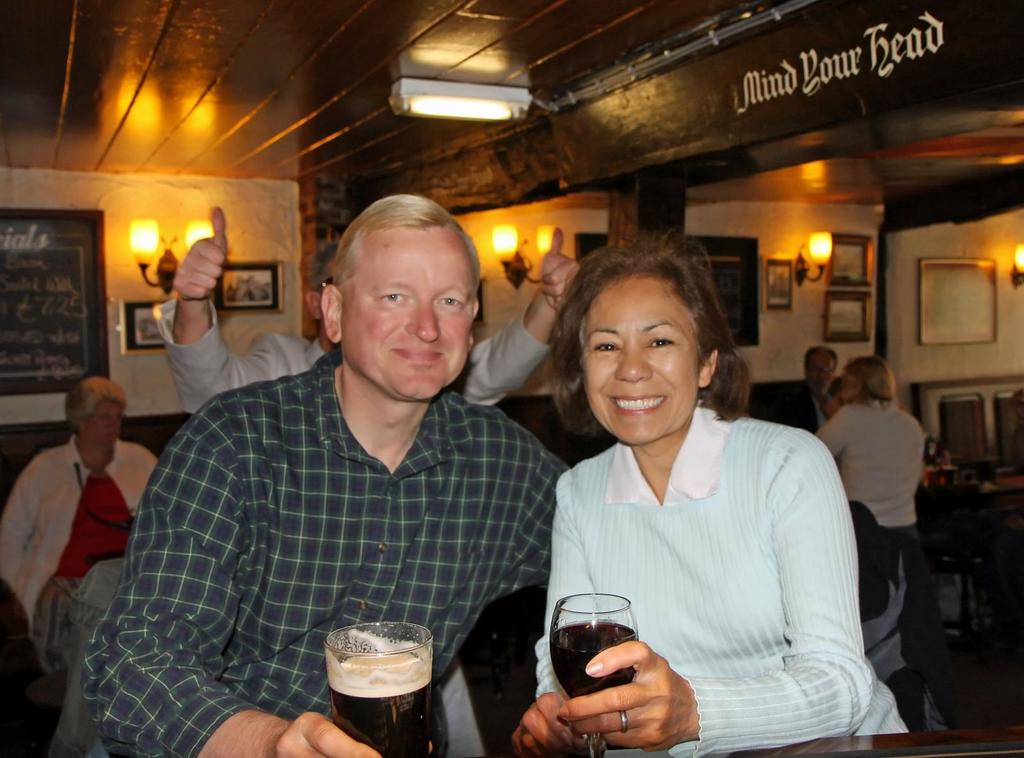Beer: (325, 649, 432, 757)
